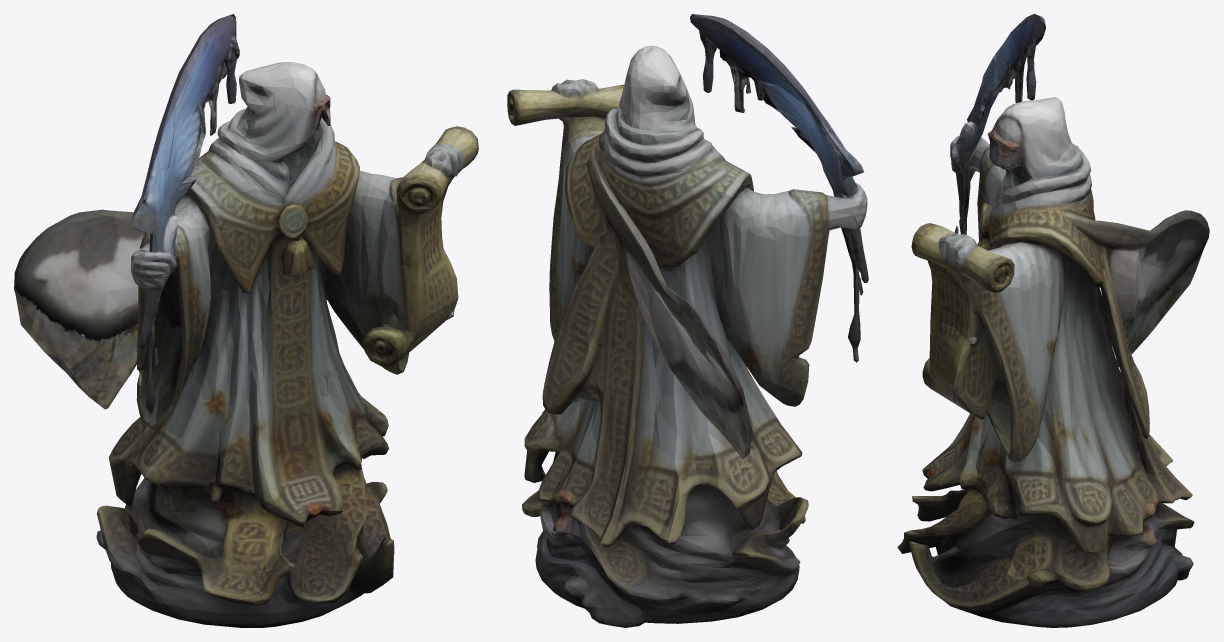
Rendered from archiveWraith.glb.
3 views of the same model, side by side, from view 1: azimuth 30°, elevation 25°; view 2: azimuth 150°, elevation 25°; view 3: azimuth 270°, elevation 25° (orthographic). The views are drawn at different scales.
Parts seen in each view (by area): view 1: world; view 2: world; view 3: world.
Boxes of the visible parts, x1,y1,x2,y2 form: world: [14, 14, 478, 627]; world: [507, 14, 868, 627]; world: [897, 14, 1209, 627].
Bounding box in the file's own units: 0.6462 × 0.9951 × 0.5159.
Materials: 1 (1 with a texture image).
